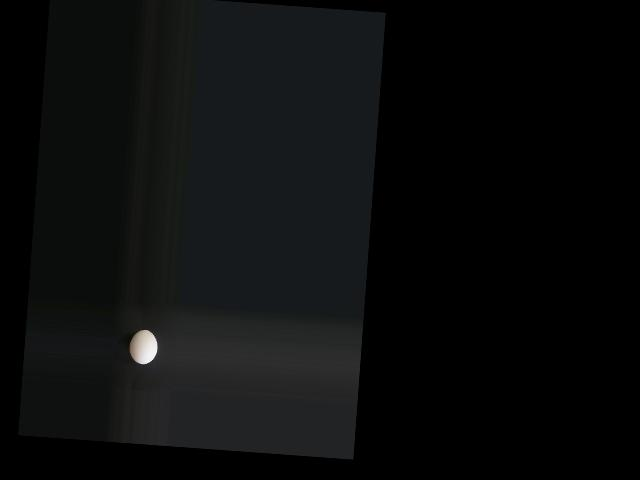egg: (128, 328, 158, 364)
